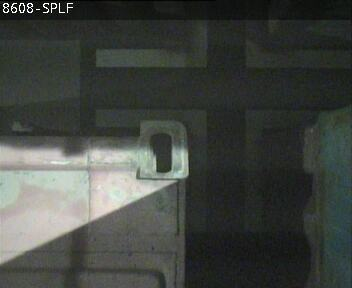groundmarker_1: (94, 109, 325, 229), (96, 1, 352, 69)
